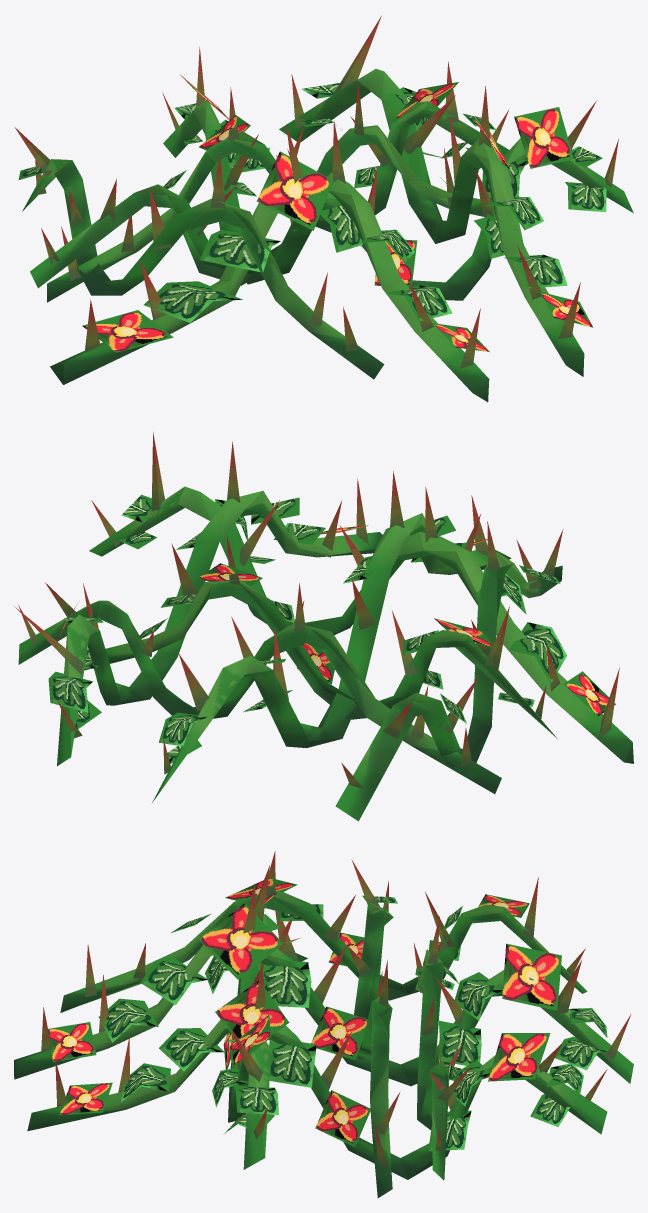
Rendered from thorns.gltf.
3 renders of one model, top to bottom at view 1: azimuth 30°, elevation 25°; view 2: azimuth 150°, elevation 25°; view 3: azimuth 270°, elevation 25°, orthographic. The views are drawn at different scales.
Visible parts, largest first — view 1: ThornsMesh; view 2: ThornsMesh; view 3: ThornsMesh.
Boxes of the visible parts, <box> form: ThornsMesh: <box>15,15,633,402</box>; ThornsMesh: <box>14,432,633,821</box>; ThornsMesh: <box>14,851,633,1198</box>.
Size of what is drawn, in the model's own units: 2.07 by 0.7924 by 2.14.
Materials: 1 (1 with a texture image).
